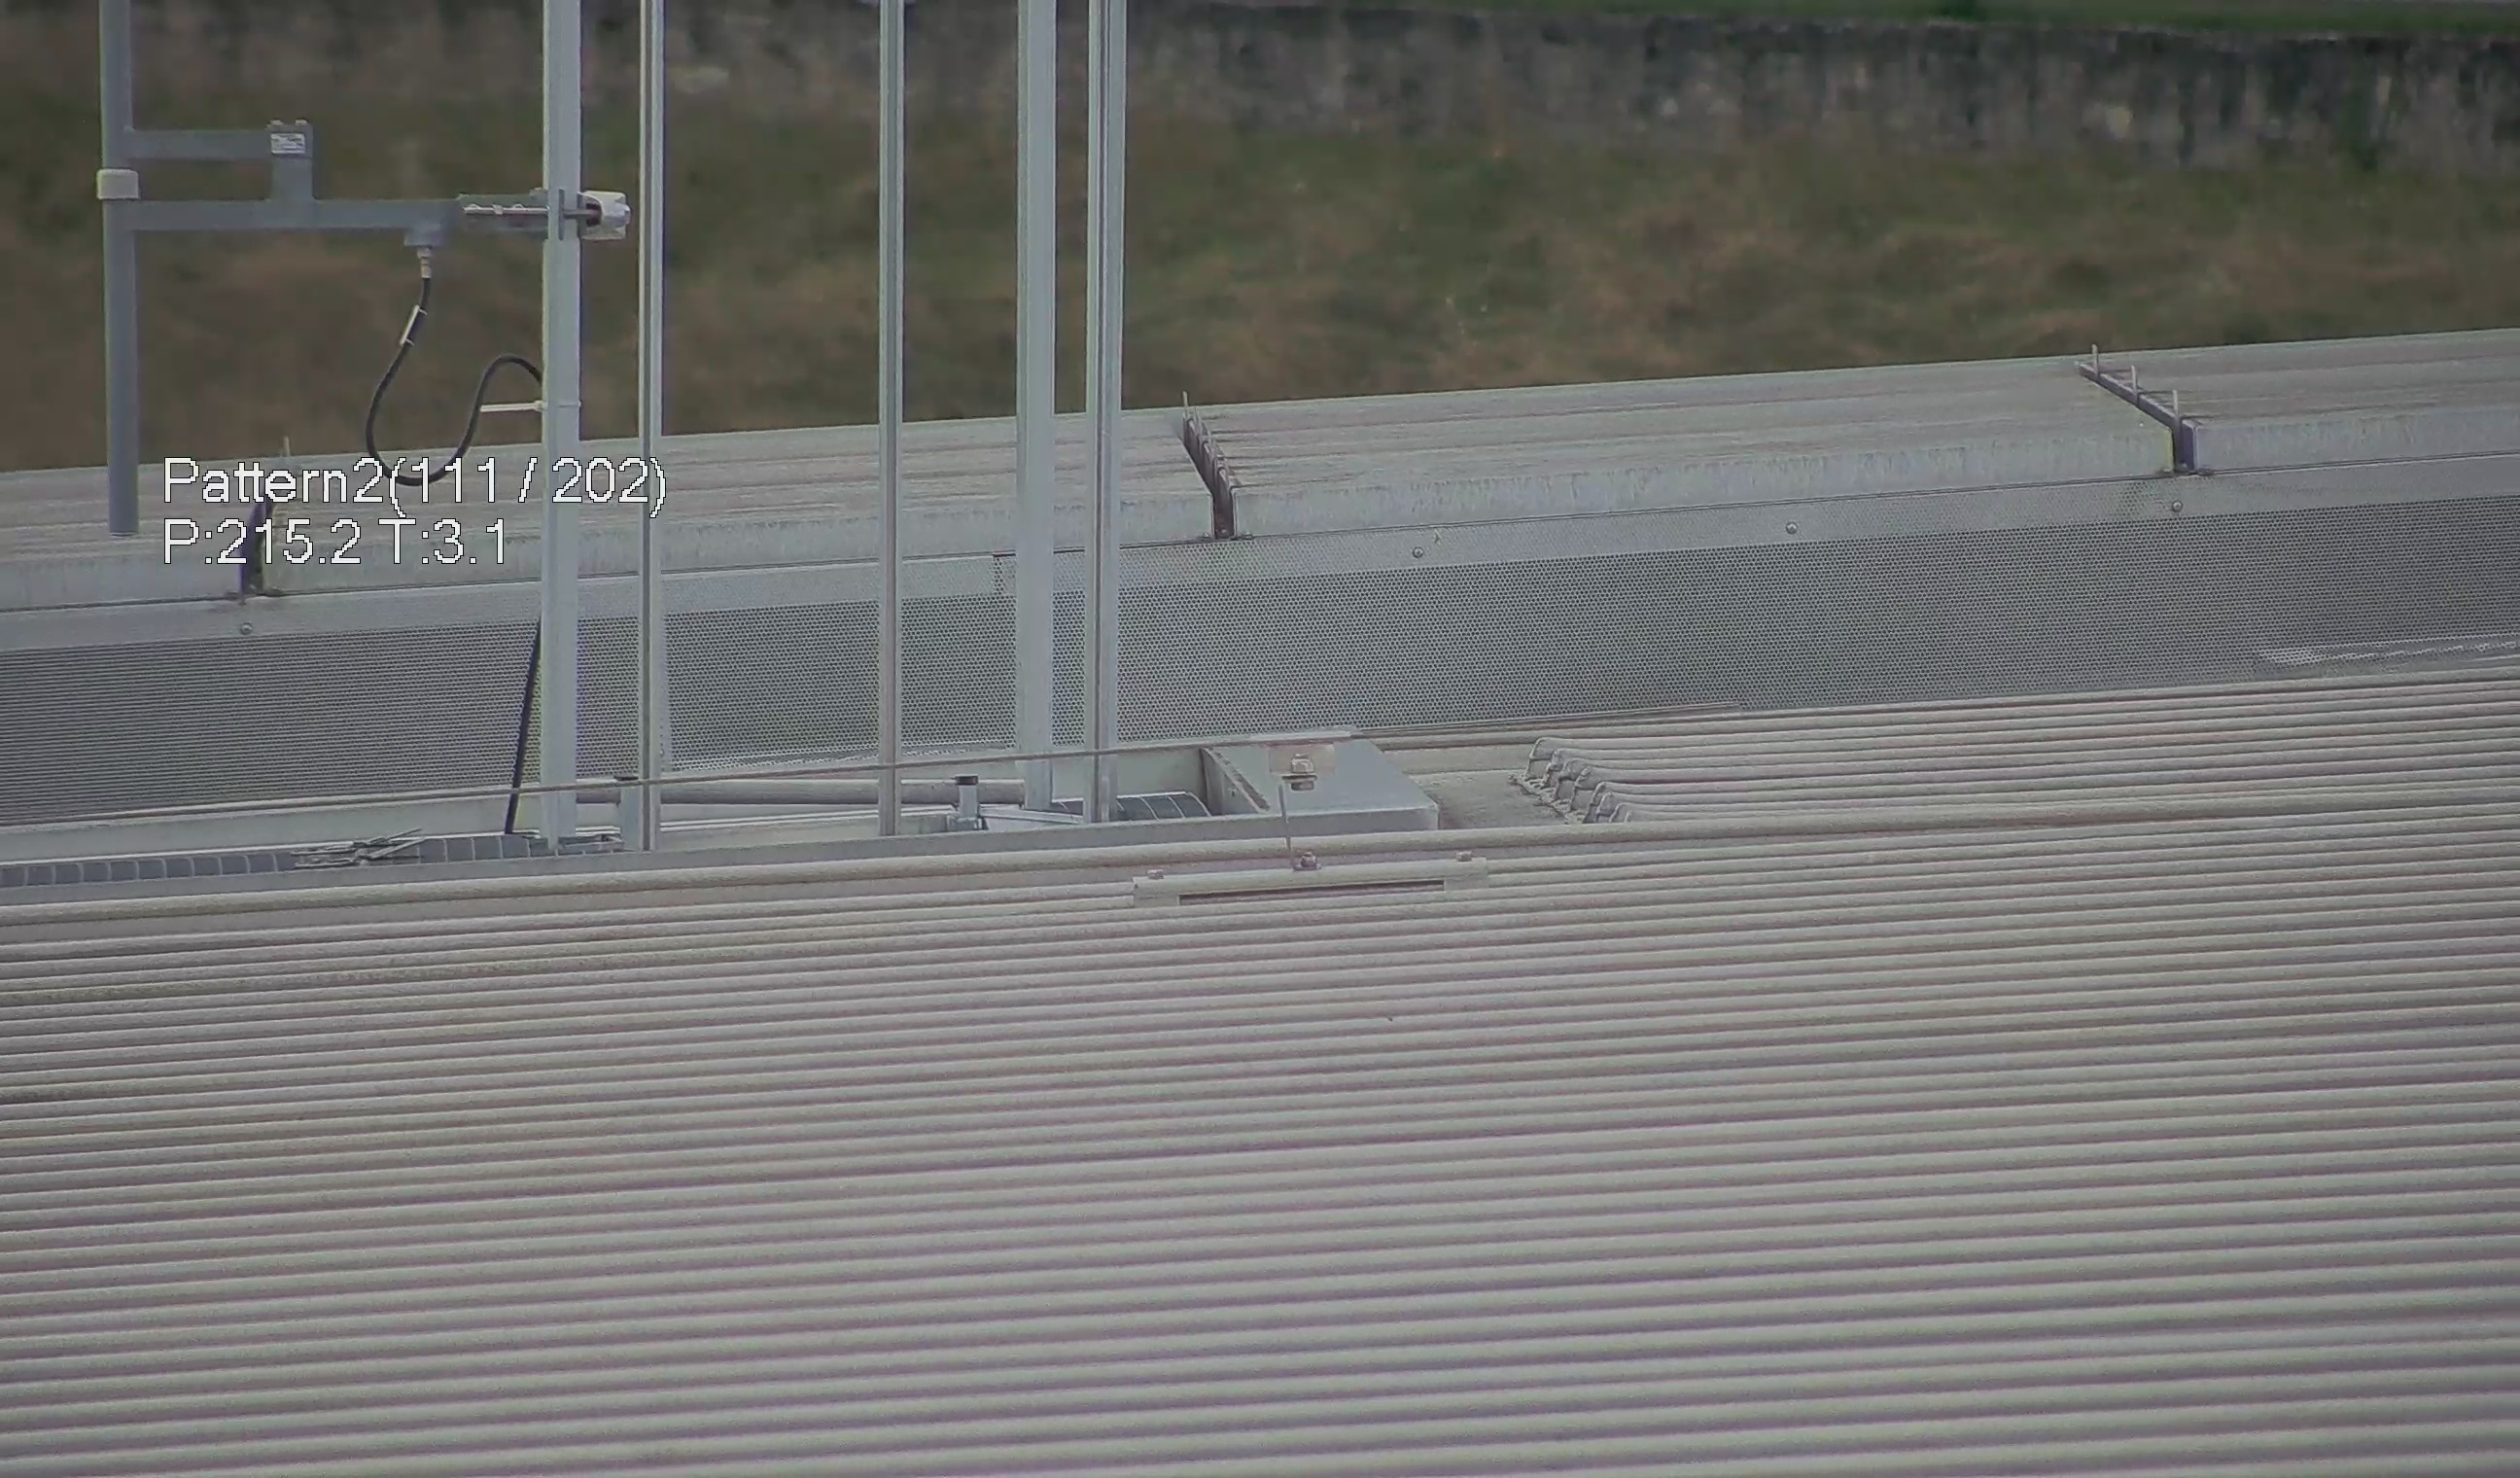Other: (1161, 394, 1245, 544)
